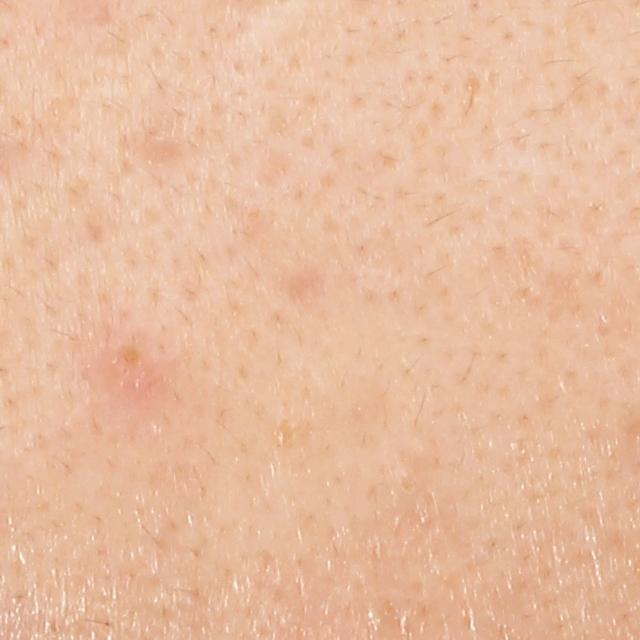atrophic_scar: (460, 73, 481, 125)
